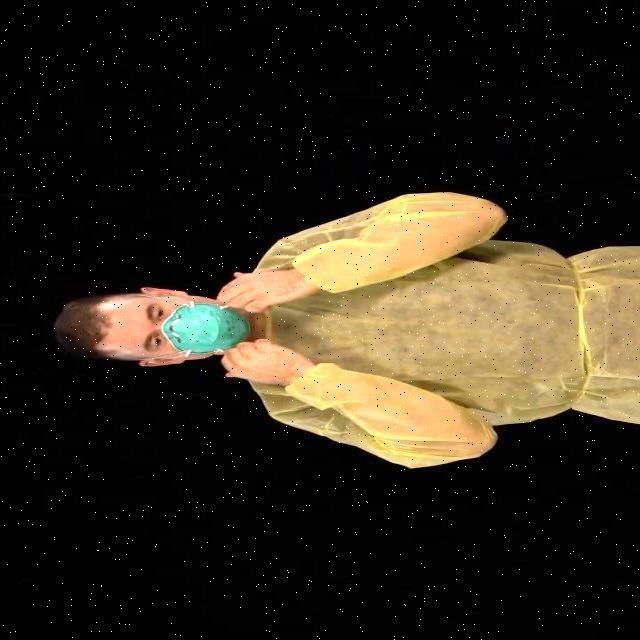no_apron: (206, 337, 300, 392), (224, 265, 302, 317)
